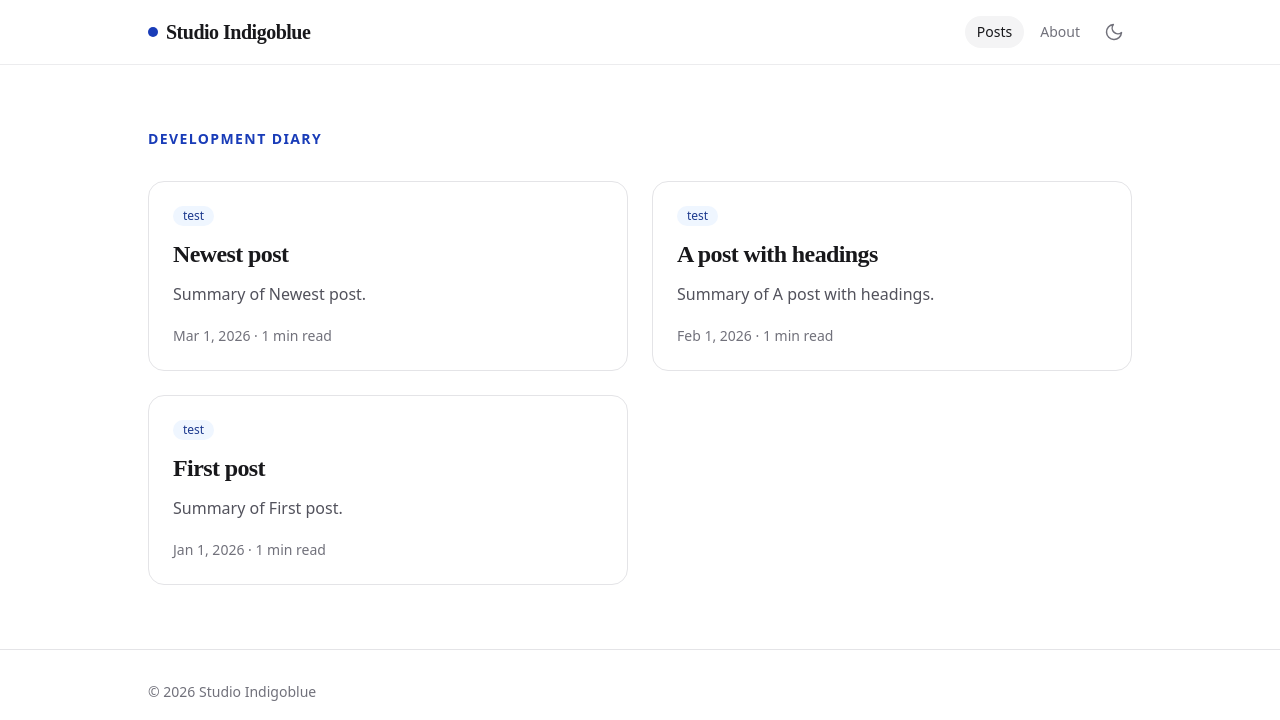
it: theme toggle switches to dark and remembers it
Click the button named "Switch to dark theme" at (1114,32), box x1=1096 y1=14 x2=1132 y2=50
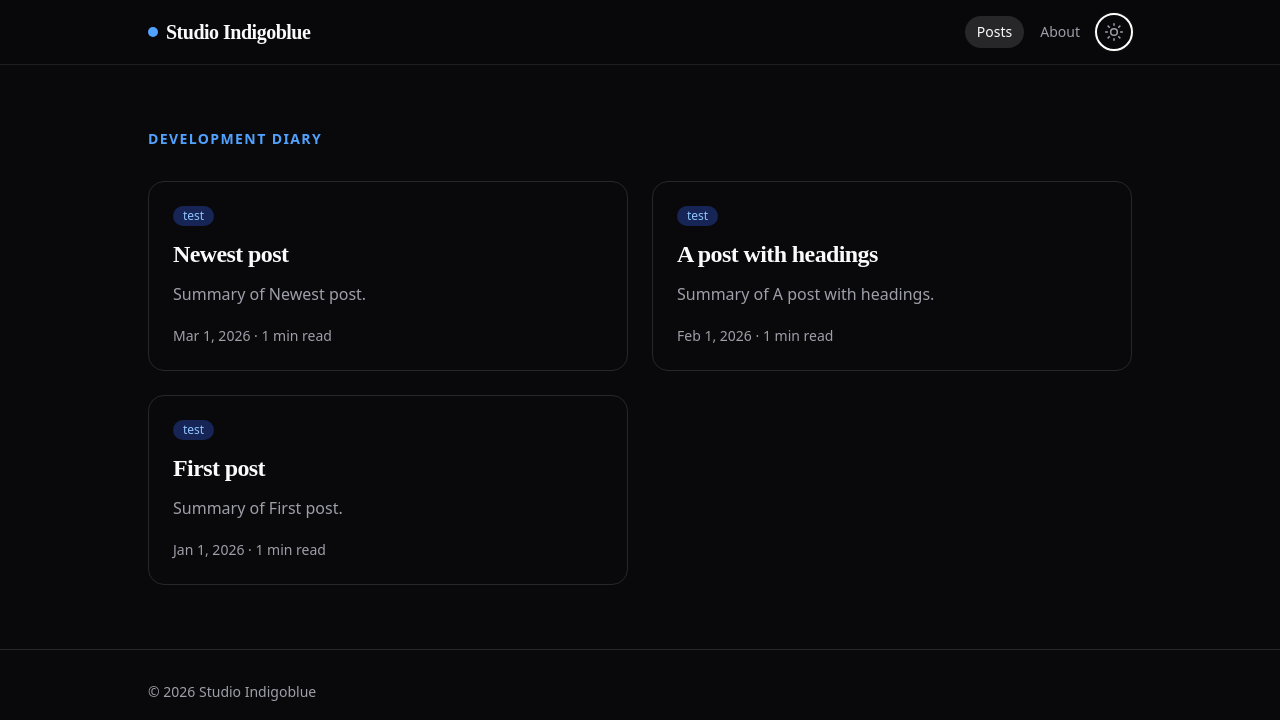
Expected: the button named "Switch to light theme" is shown, x1=1096 y1=14 x2=1132 y2=50
